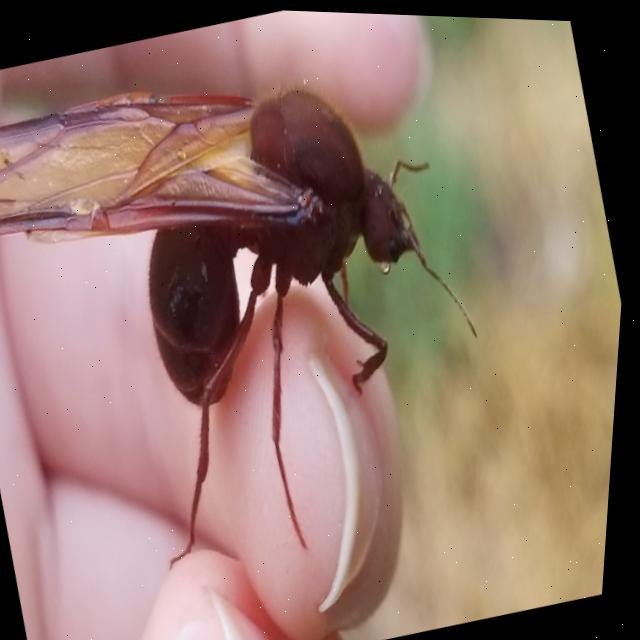Alive-Female-Alate: (0, 15, 539, 623)
